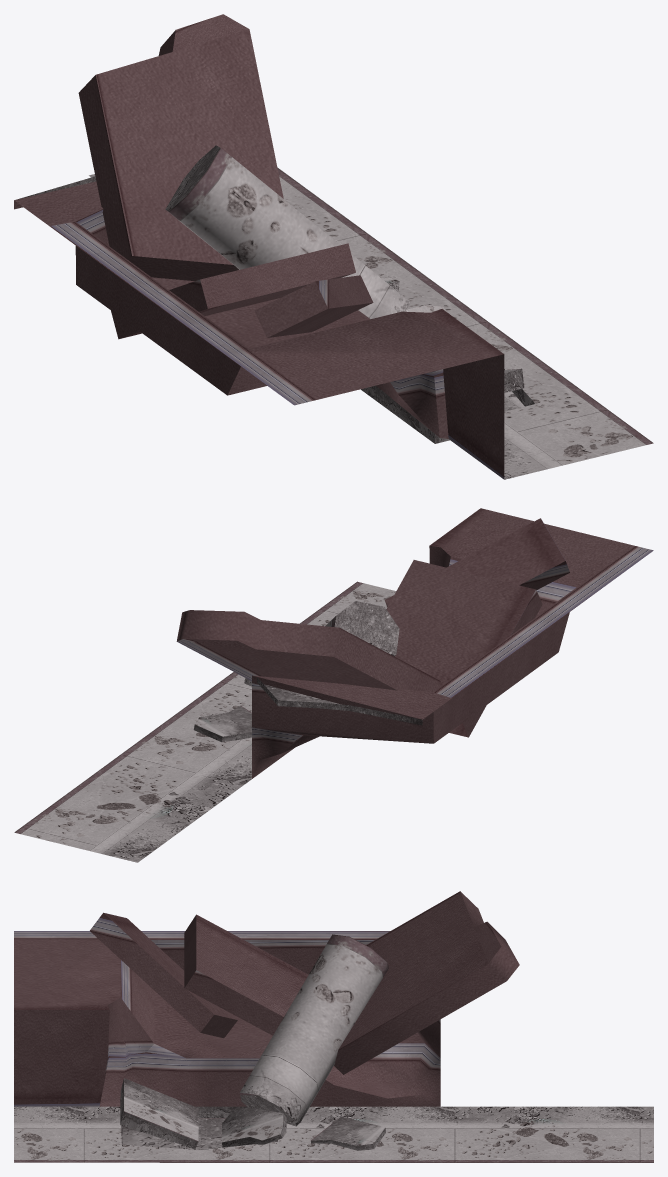
File: Cor1_prop_Grand_hall_rubble_1.fbx
The picture shows the model from 3 angles, top to bottom: view 1: azimuth 30°, elevation 25°; view 2: azimuth 150°, elevation 25°; view 3: azimuth 270°, elevation 25°; orthographic projection. The views are drawn at different scales.
Parts seen in each view (by area): view 1: Rubble_1, polymsh_extracted311, polymsh_detached61, polymsh_detached57, polymsh_extracted312, polymsh_detached58, polymsh_detached59; view 2: Rubble_1, polymsh_detached61, polymsh_extracted312, polymsh_extracted311, polymsh_detached58, polymsh_detached57, polymsh_detached63, polymsh_extracted316; view 3: Rubble_1, polymsh_detached61, polymsh_extracted311, polymsh_detached57, polymsh_extracted312, polymsh_detached58, polymsh_extracted317, polymsh_detached60, polymsh_detached59, polymsh_extracted316.
Boxes of the visible parts, x1,y1,x2,y2 form: Rubble_1: (14, 181, 504, 479); polymsh_extracted311: (78, 14, 283, 280); polymsh_detached61: (89, 167, 653, 479); polymsh_detached57: (165, 145, 410, 318); polymsh_extracted312: (111, 243, 355, 339); polymsh_detached58: (254, 275, 373, 337); polymsh_detached59: (361, 369, 534, 443); Rubble_1: (252, 508, 653, 778); polymsh_detached61: (14, 581, 396, 862); polymsh_extracted312: (386, 560, 542, 737); polymsh_extracted311: (176, 610, 440, 692); polymsh_detached58: (384, 518, 569, 606); polymsh_detached57: (325, 601, 399, 656); polymsh_detached63: (257, 677, 422, 725); polymsh_extracted316: (193, 705, 251, 742); Rubble_1: (14, 931, 440, 1106); polymsh_detached61: (14, 1106, 653, 1162); polymsh_extracted311: (334, 891, 519, 1074); polymsh_detached57: (239, 934, 388, 1126); polymsh_extracted312: (184, 914, 308, 1035); polymsh_detached58: (90, 912, 237, 1037); polymsh_extracted317: (120, 1078, 198, 1148); polymsh_detached60: (222, 1107, 286, 1147); polymsh_detached59: (121, 1106, 277, 1149); polymsh_extracted316: (311, 1116, 385, 1150).
Size of what is drawn, in the model's own units: 12 by 7.83 by 24.
